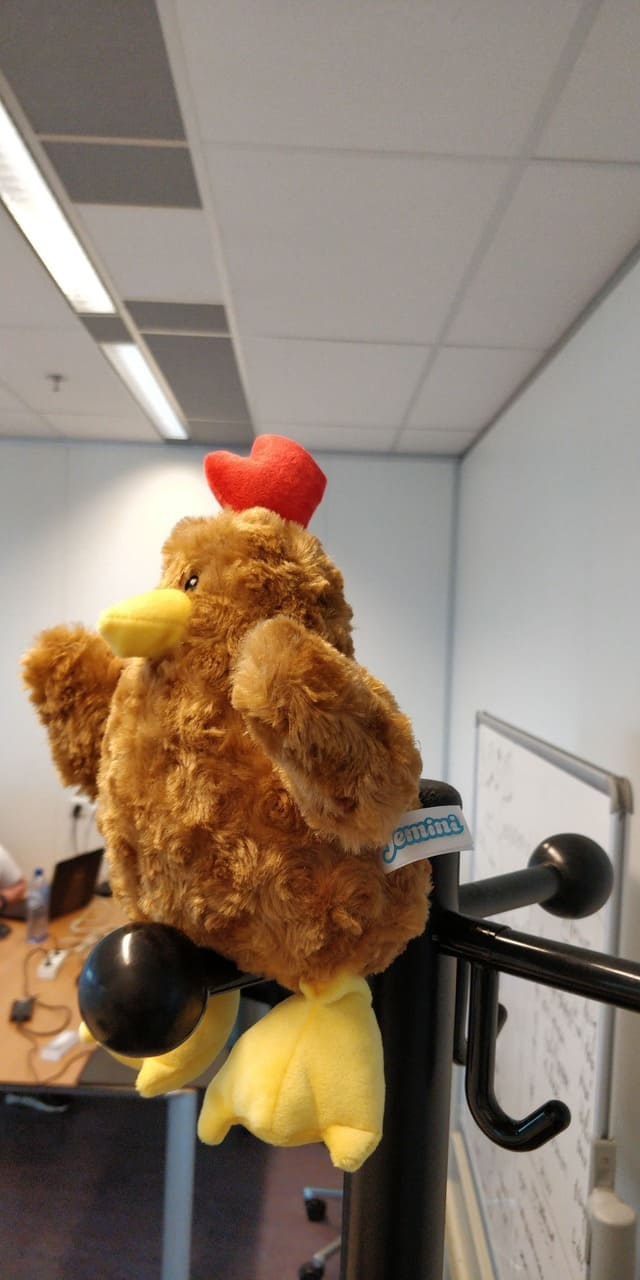fakeChicken: (21, 431, 436, 1174)
